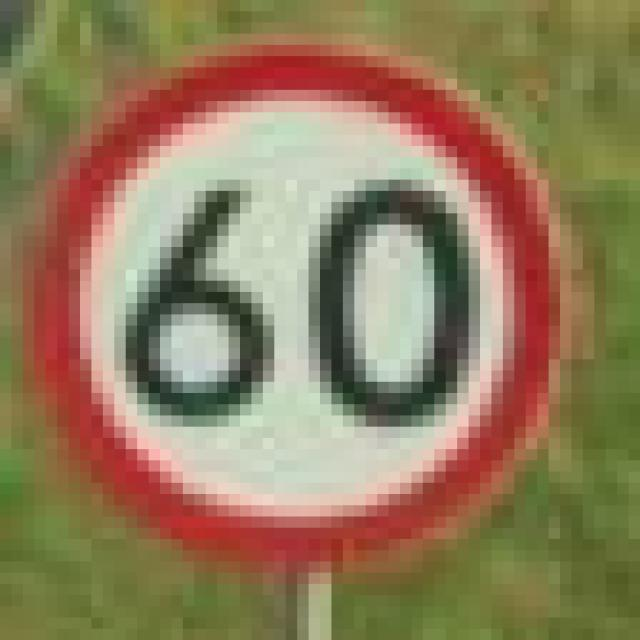Ograniczenie predkosci do 60: (11, 34, 548, 561)
